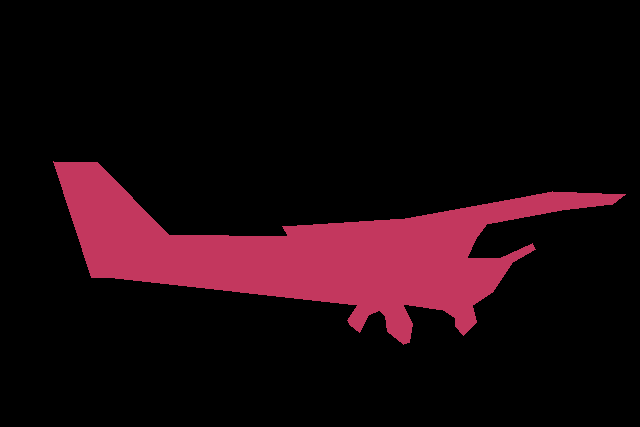Airplane: (53, 161, 625, 345)
